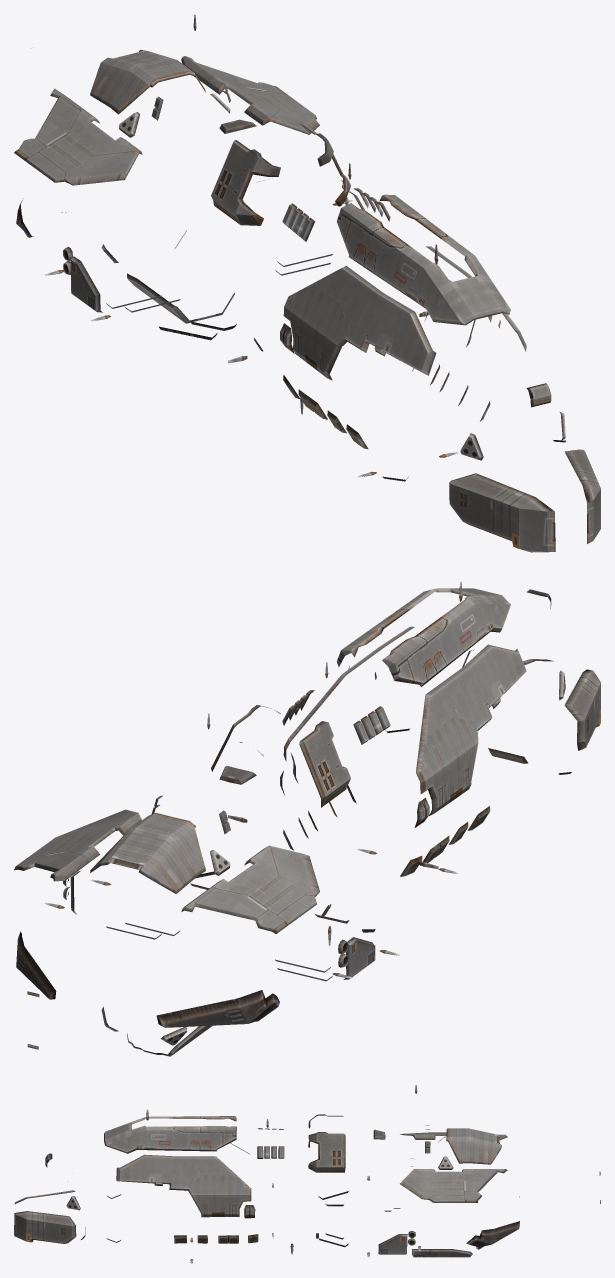
File: vgr_assault_frigate_01_t2.glb
3 views of the same model, one above another, from view 1: azimuth 30°, elevation 25°; view 2: azimuth 150°, elevation 25°; view 3: azimuth 270°, elevation 25° (orthographic). The views are drawn at different scales.
Parts seen in each view (by area): view 1: vgr_assault_frigate_01_t2_LOD0; view 2: vgr_assault_frigate_01_t2_LOD0; view 3: vgr_assault_frigate_01_t2_LOD0.
Part boxes in pixels (<box>): vgr_assault_frigate_01_t2_LOD0: <box>14,14,600,552</box>; vgr_assault_frigate_01_t2_LOD0: <box>14,581,600,1056</box>; vgr_assault_frigate_01_t2_LOD0: <box>14,1085,600,1263</box>.
Size of what is drawn, in the model's own units: 1.69 by 1.64 by 5.11.
1 material, 1 textured.
